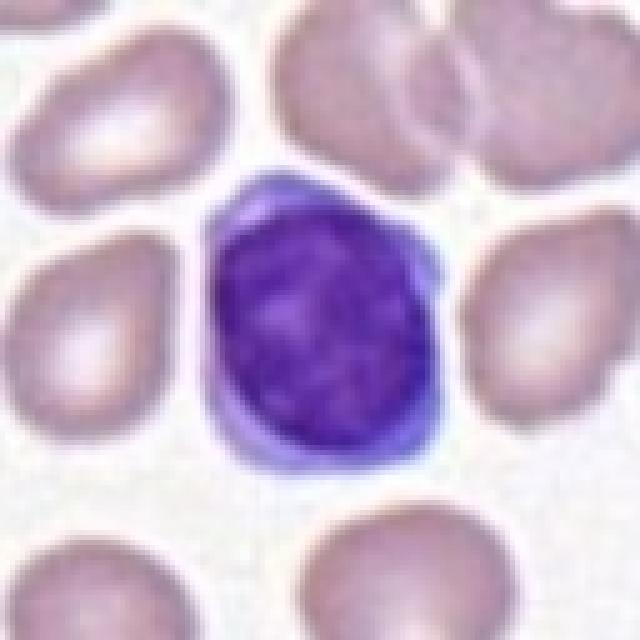lympho: (193, 161, 449, 481)
